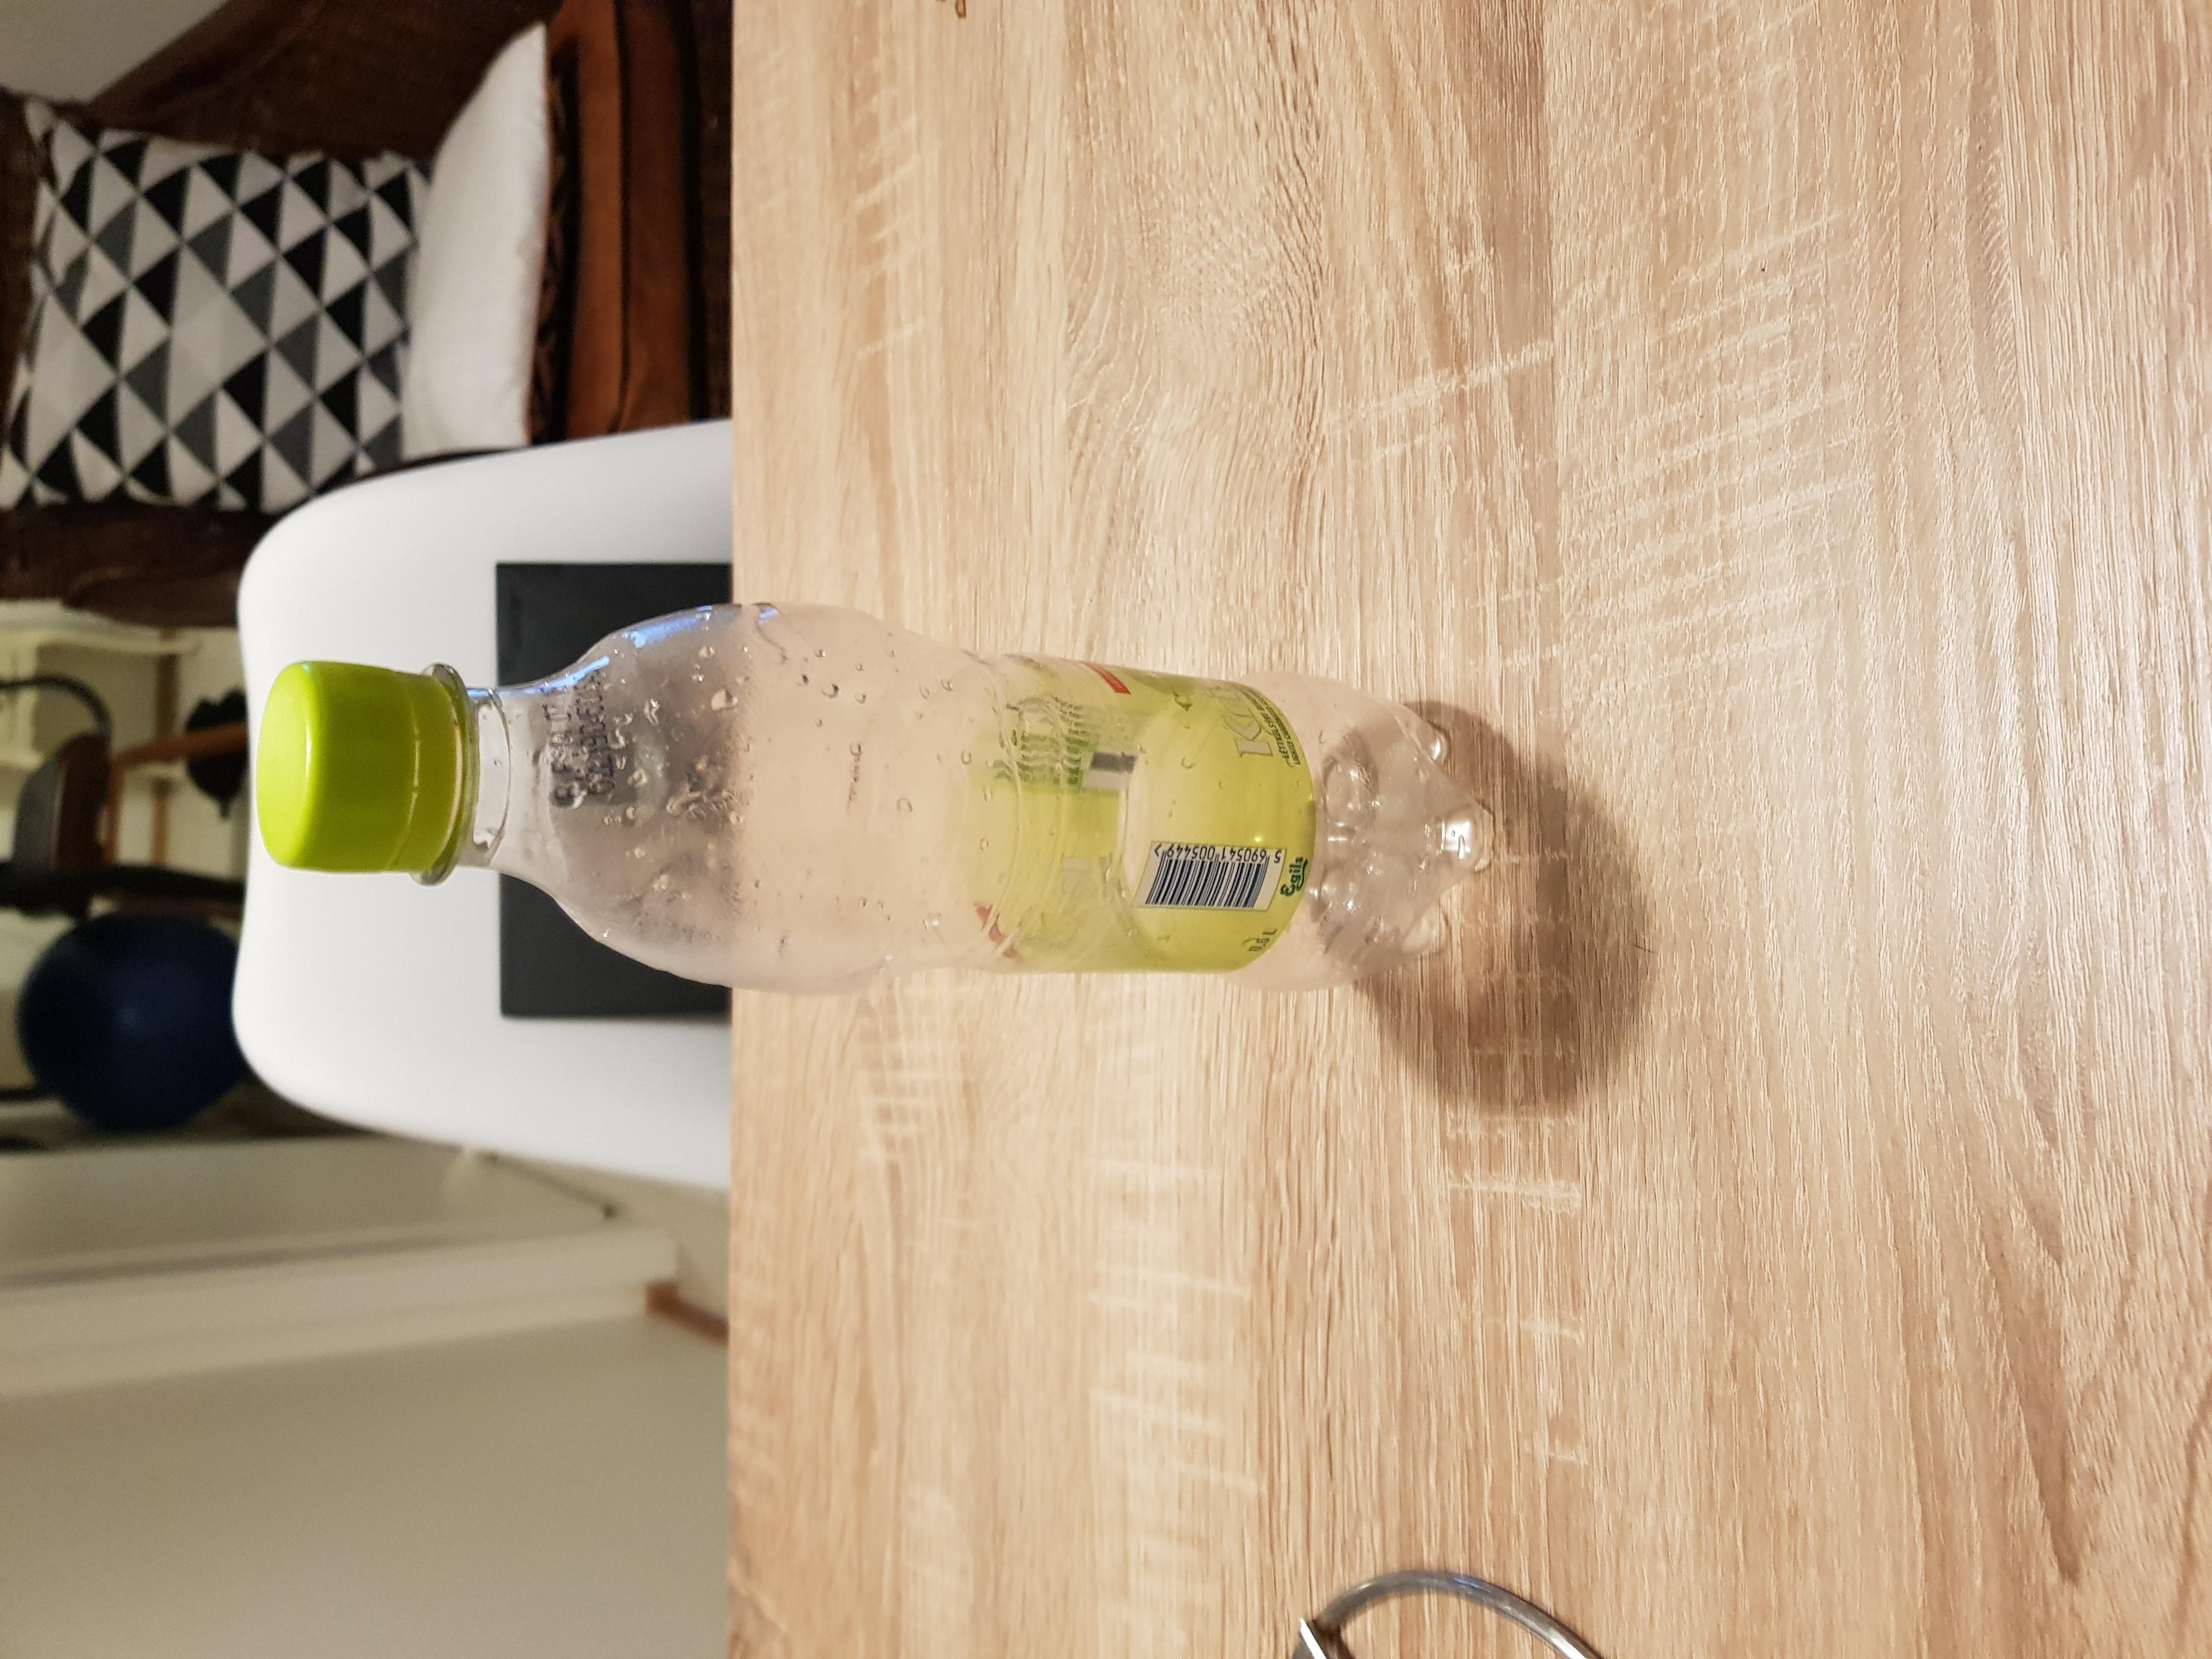bottle: (246, 610, 1390, 992)
